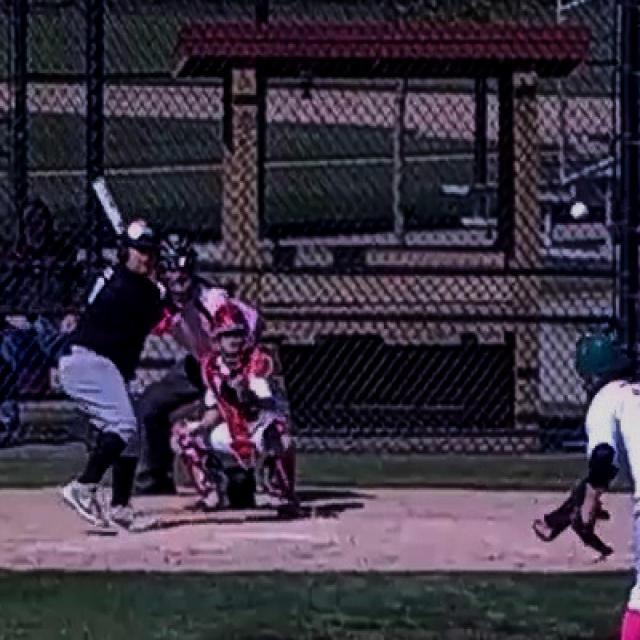baseball: (571, 203, 587, 219)
